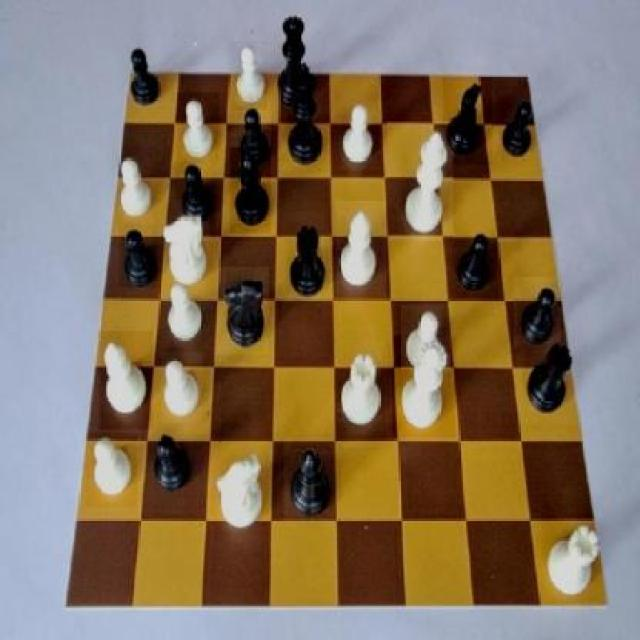bishop: (284, 438, 336, 521), (230, 148, 272, 235)
black-bishop: (285, 56, 332, 172)
black-king: (217, 268, 269, 355), (443, 79, 492, 166)
black-knight: (146, 423, 194, 495), (449, 231, 497, 301), (494, 95, 540, 168), (514, 278, 560, 351), (176, 160, 217, 238), (125, 37, 162, 112), (119, 223, 158, 289), (234, 100, 271, 169)
black-pawn: (270, 10, 314, 111)
black-queen: (518, 343, 578, 424), (282, 212, 328, 305)
black-rook: (100, 331, 154, 430), (336, 200, 386, 299)
white-bishop: (388, 122, 454, 239)
white-king: (210, 454, 272, 536), (162, 199, 209, 296)
white-knight: (86, 432, 137, 508), (112, 148, 160, 224), (400, 305, 451, 369), (177, 92, 219, 165), (338, 103, 382, 171), (162, 352, 202, 423), (229, 40, 267, 110), (162, 276, 200, 346)
white-pawn: (392, 335, 456, 438)
white-queen: (537, 518, 605, 602), (340, 340, 389, 435)
